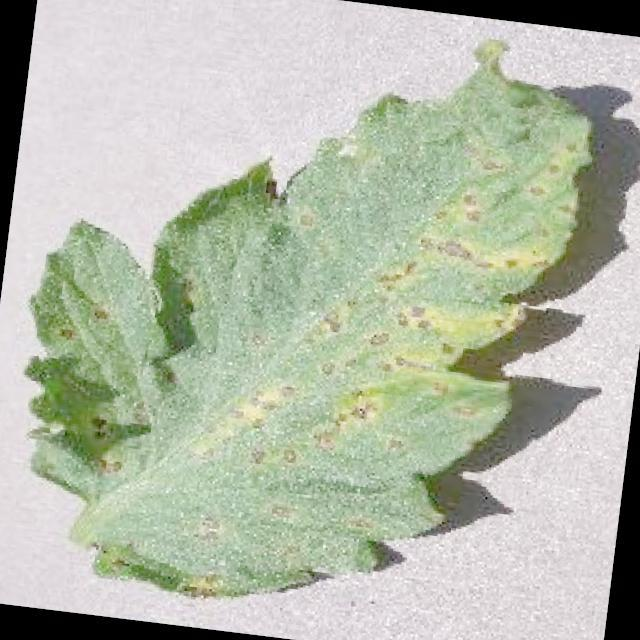Tomato Septoria spot leaf: (0, 0, 605, 636)
